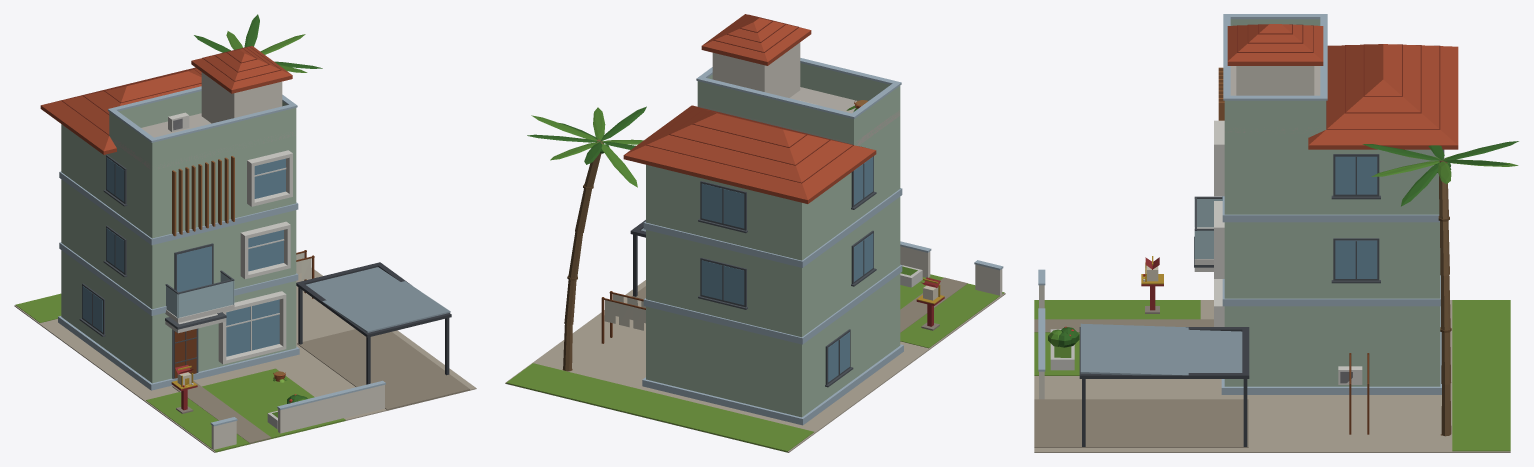
Rendered from house12_2.glb.
3 views of the same model, side by side, from view 1: azimuth 30°, elevation 25°; view 2: azimuth 150°, elevation 25°; view 3: azimuth 270°, elevation 25° (orthographic). The views are drawn at different scales.
Parts seen in each view (by area): view 1: body; view 2: body; view 3: body.
Boxes of the visible parts, <box> form: body: <box>14,14,476,452</box>; body: <box>505,14,1005,452</box>; body: <box>1034,14,1518,452</box>.
Size of the model in its own units: 12.13 by 13.25 by 16.2.
